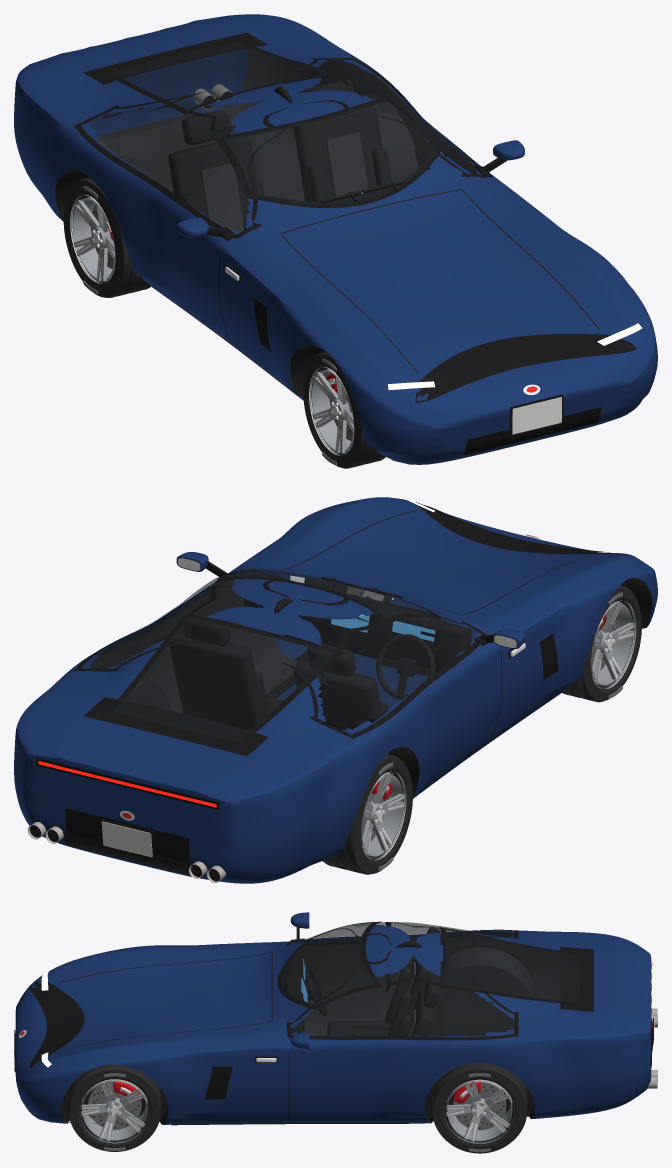
Rendered from 12cil.glb.
3 renders of one model, top to bottom at view 1: azimuth 30°, elevation 25°; view 2: azimuth 150°, elevation 25°; view 3: azimuth 270°, elevation 25°, orthographic. The views are drawn at different scales.
Parts seen in each view (by area): view 1: Body, Wheel_RR, Wheel_FR; view 2: Body, Wheel_RR, Wheel_FR, Wheel_FL; view 3: Body, Wheel_RL, Wheel_FL, Wheel_RR.
Boxes of the visible parts, bbox=[...] form: Body: bbox=[14, 14, 657, 464]; Wheel_RR: bbox=[63, 177, 150, 297]; Wheel_FR: bbox=[303, 352, 385, 468]; Body: bbox=[14, 497, 657, 883]; Wheel_RR: bbox=[322, 754, 412, 874]; Wheel_FR: bbox=[562, 585, 641, 702]; Wheel_FL: bbox=[304, 578, 391, 602]; Body: bbox=[14, 912, 657, 1125]; Wheel_RL: bbox=[432, 1063, 527, 1153]; Wheel_FL: bbox=[68, 1065, 160, 1151]; Wheel_RR: bbox=[437, 979, 513, 1035].
Bounding box in the file's own units: 2.3 × 1.31 × 4.8.
